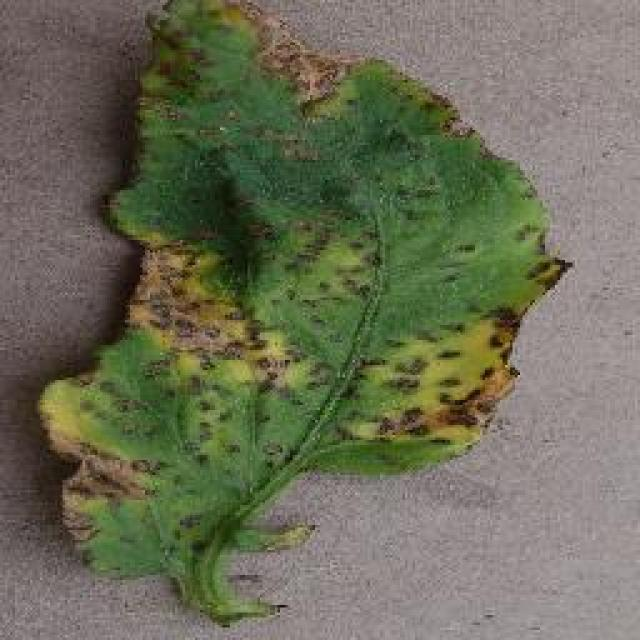Tomato bacterial spot leaf: (55, 0, 555, 618)
